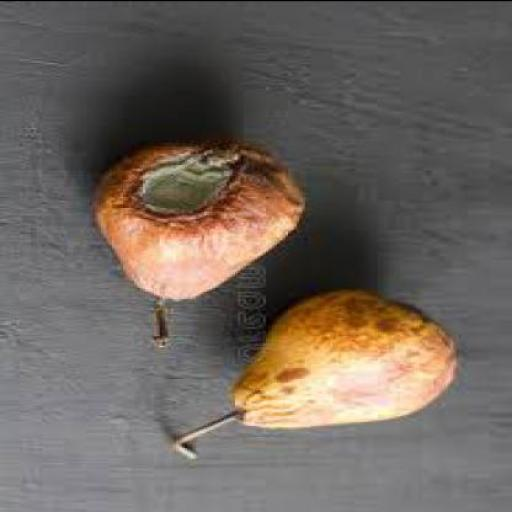biodegradable: (176, 289, 459, 462), (92, 144, 314, 346)
